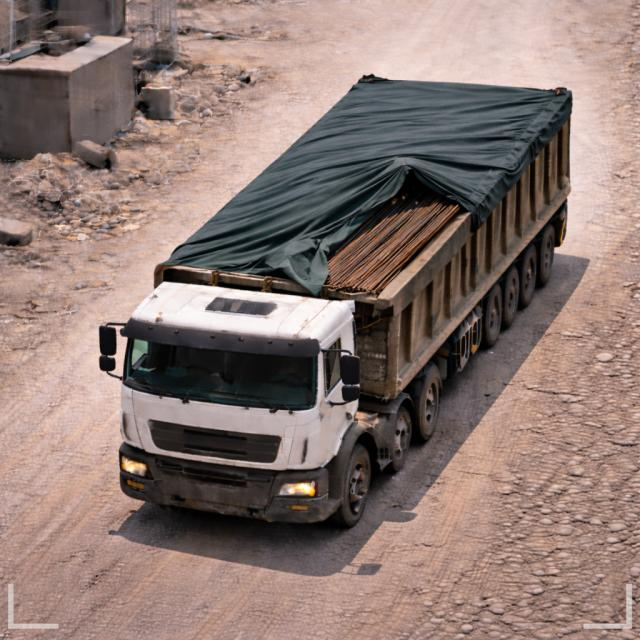Box: (158, 74, 570, 277)
Truck: (97, 70, 603, 528)
